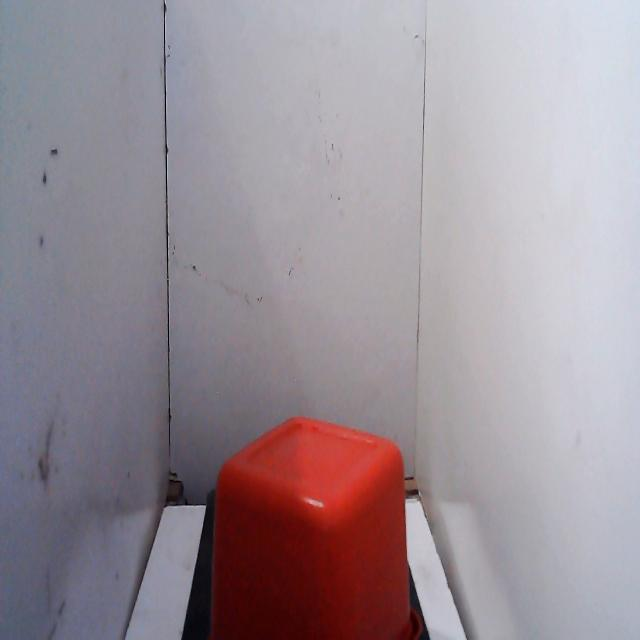plastic: (202, 406, 429, 640)
